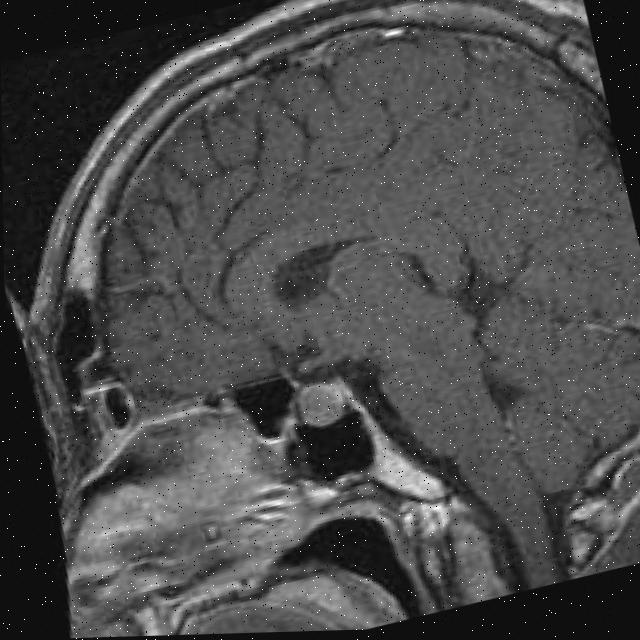Pituitary: (293, 375, 351, 433)
